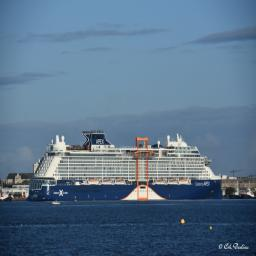cruises: (28, 130, 225, 204)
